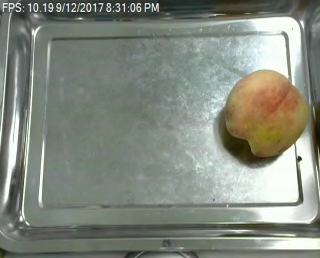Peach: (223, 68, 309, 157)
